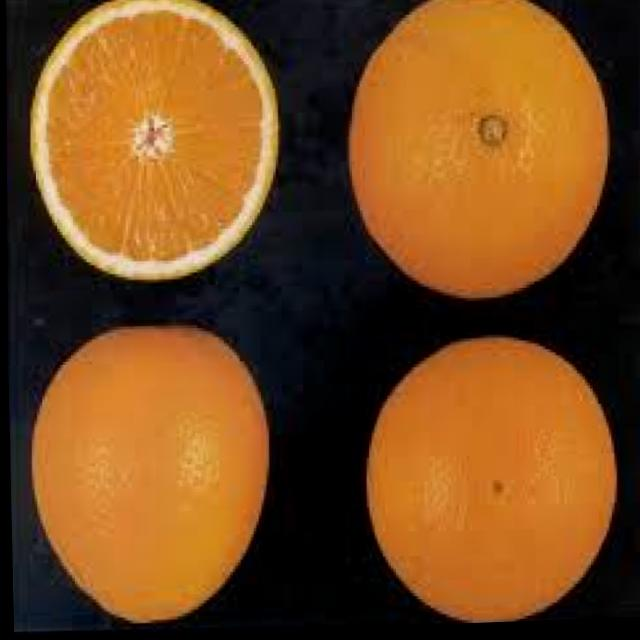orange: (338, 0, 616, 310), (361, 333, 616, 630), (25, 318, 269, 626)
